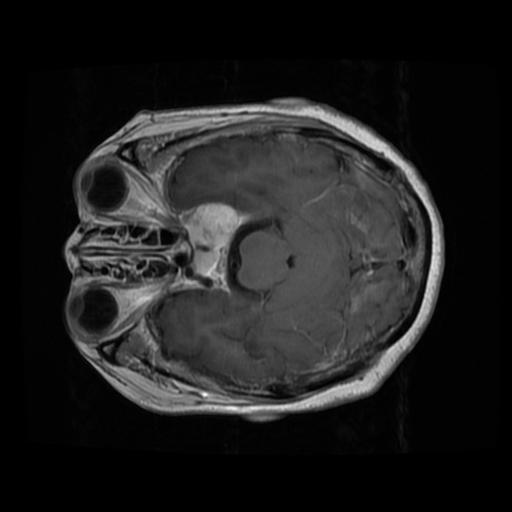meningioma: (179, 202, 240, 249)
